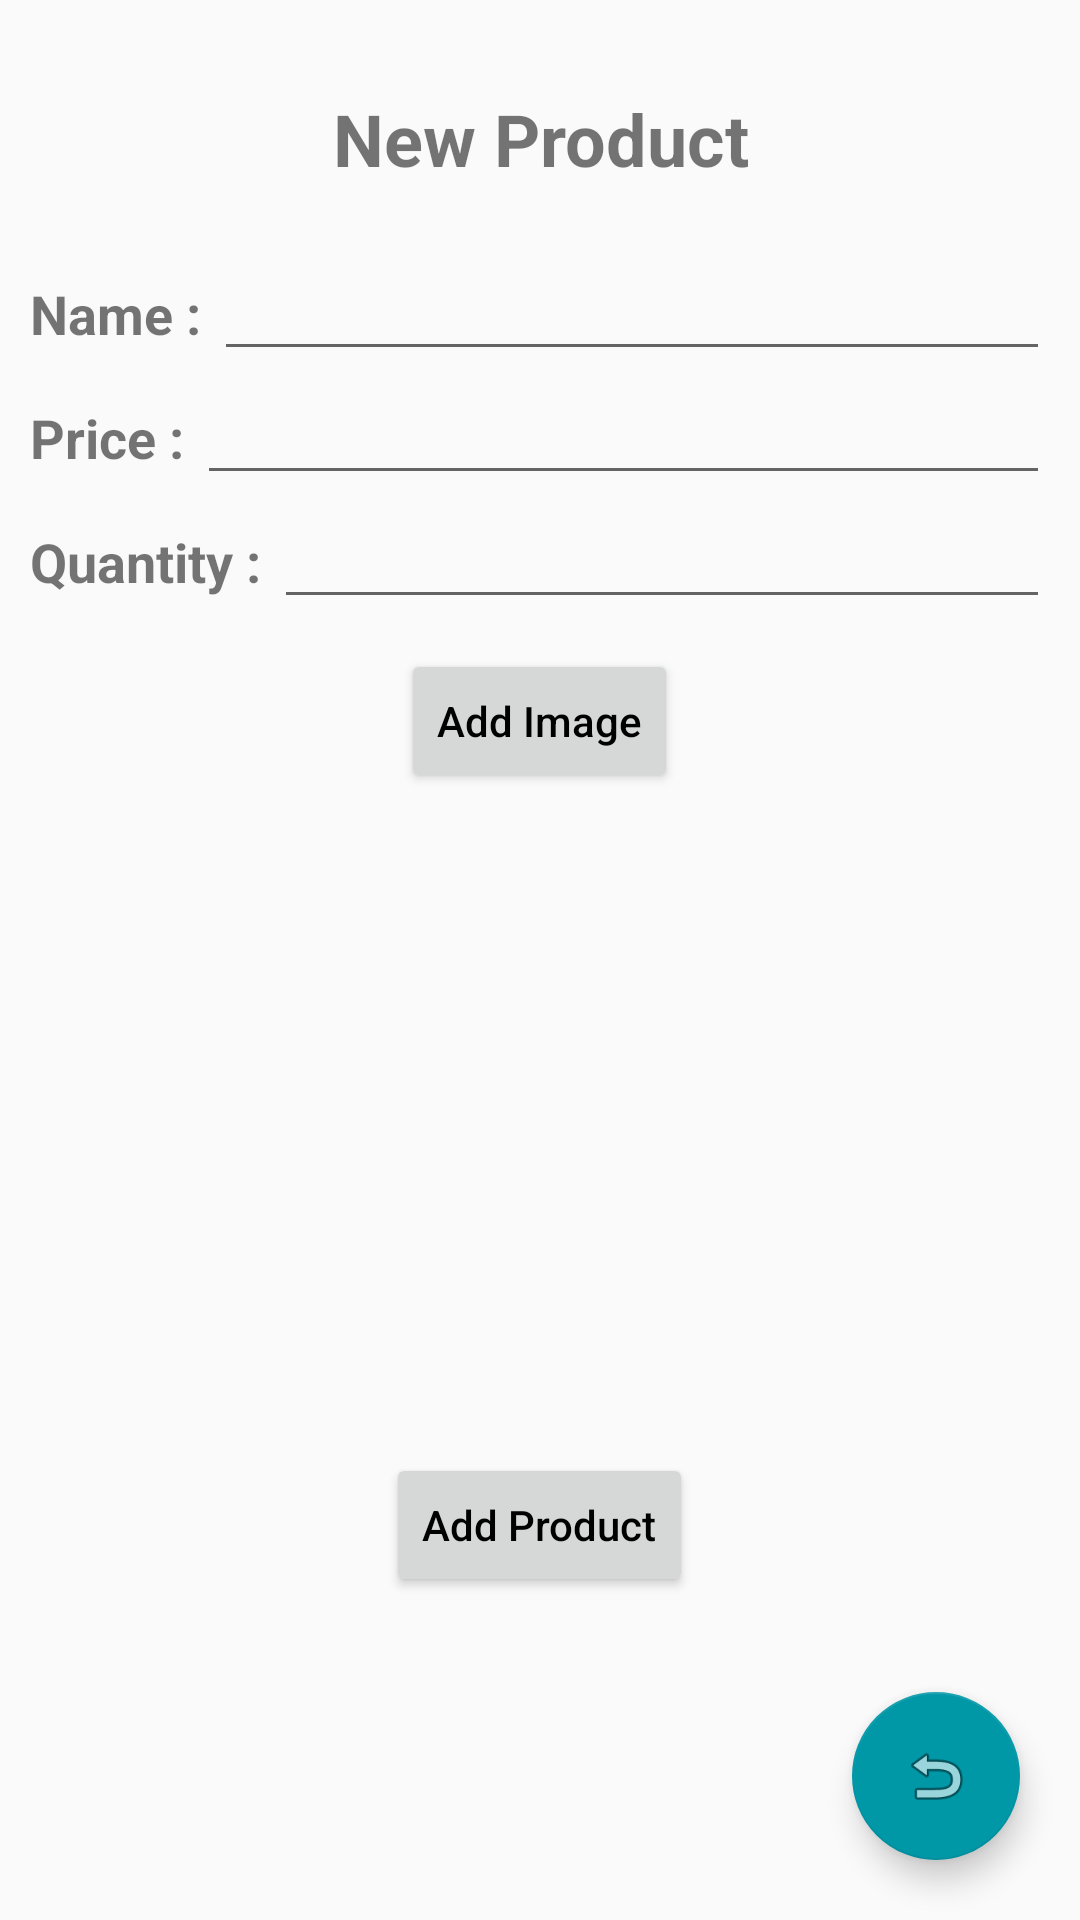

Icon bounding boxes for this 1080w x 1920h phone screenshot, format region(x1, y1, x2, y2):
revert: region(852, 1692, 1020, 1860)
